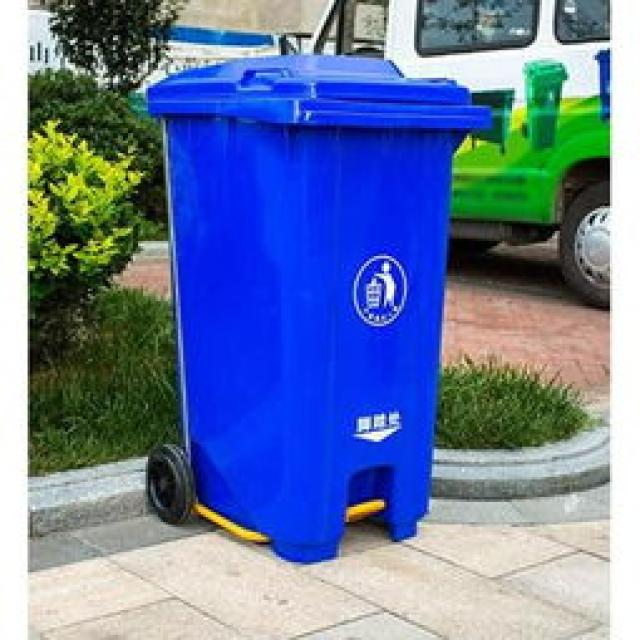garbage_bin: (145, 52, 487, 560)
